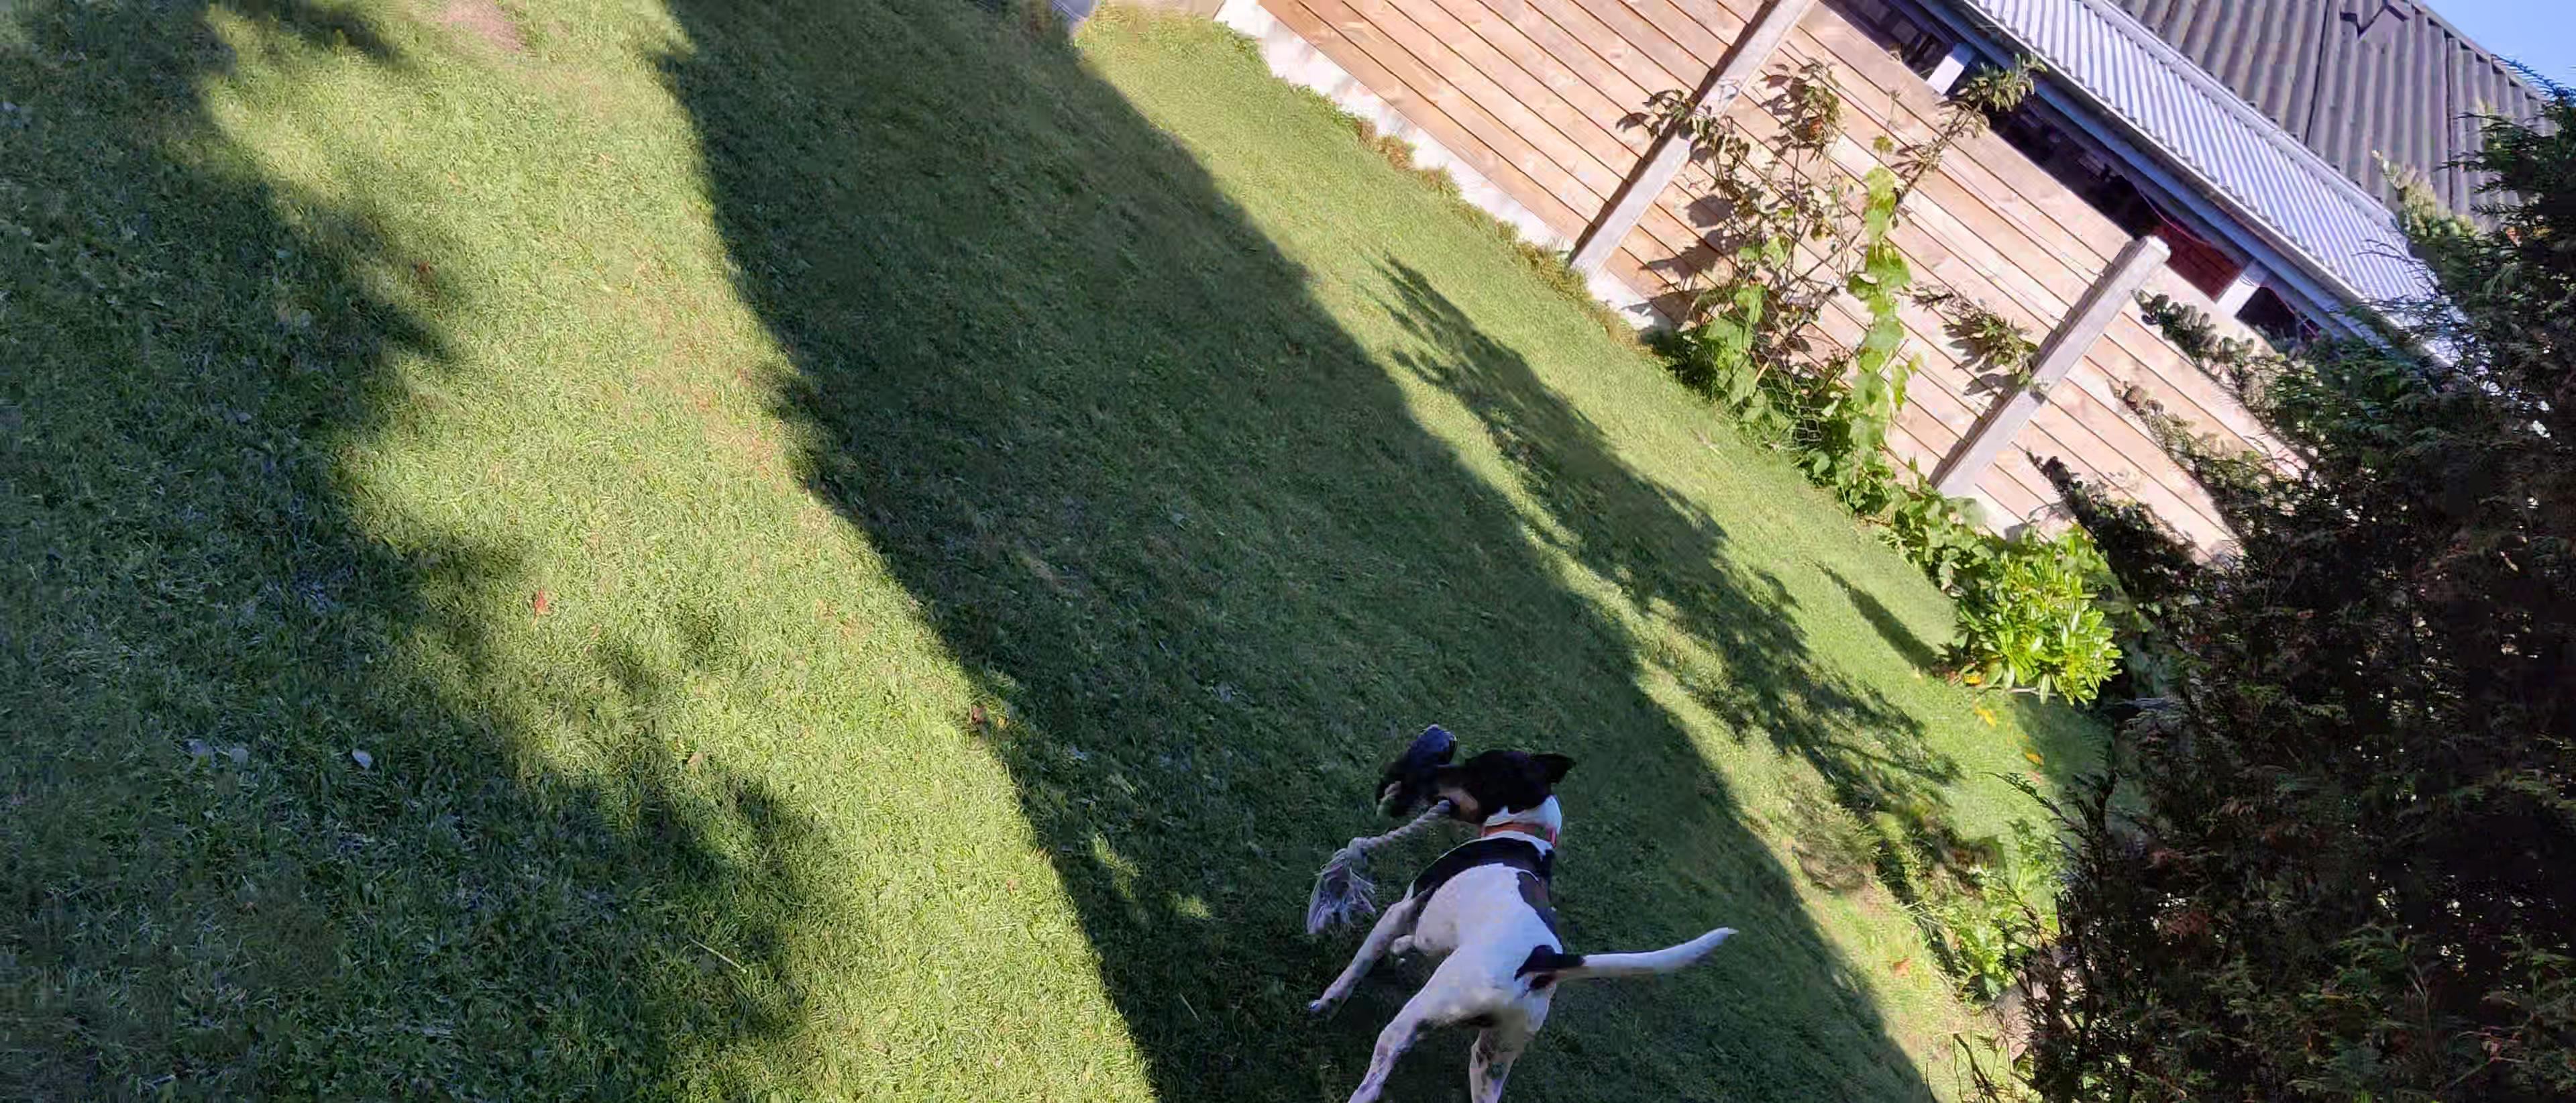Dog: (1303, 725, 1745, 1103)
